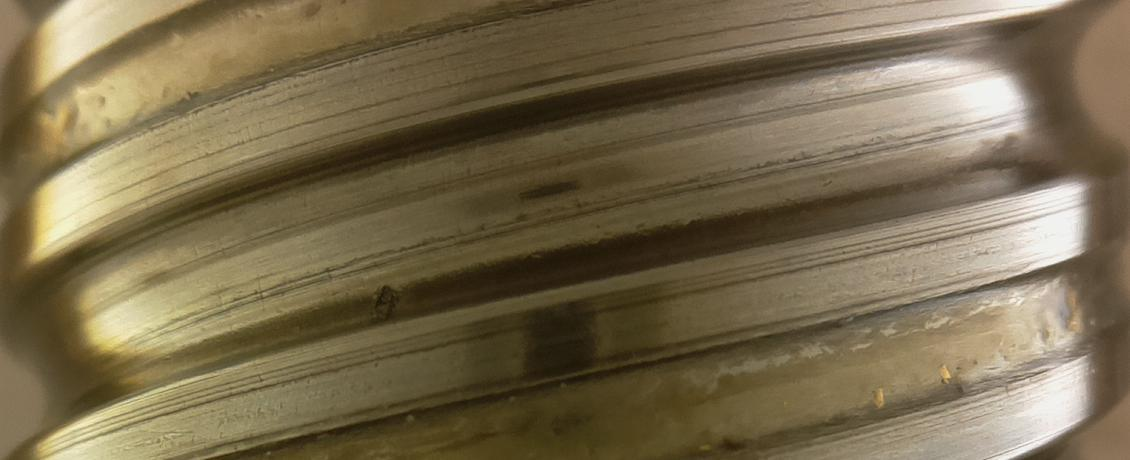pitting: (374, 285, 399, 319)
